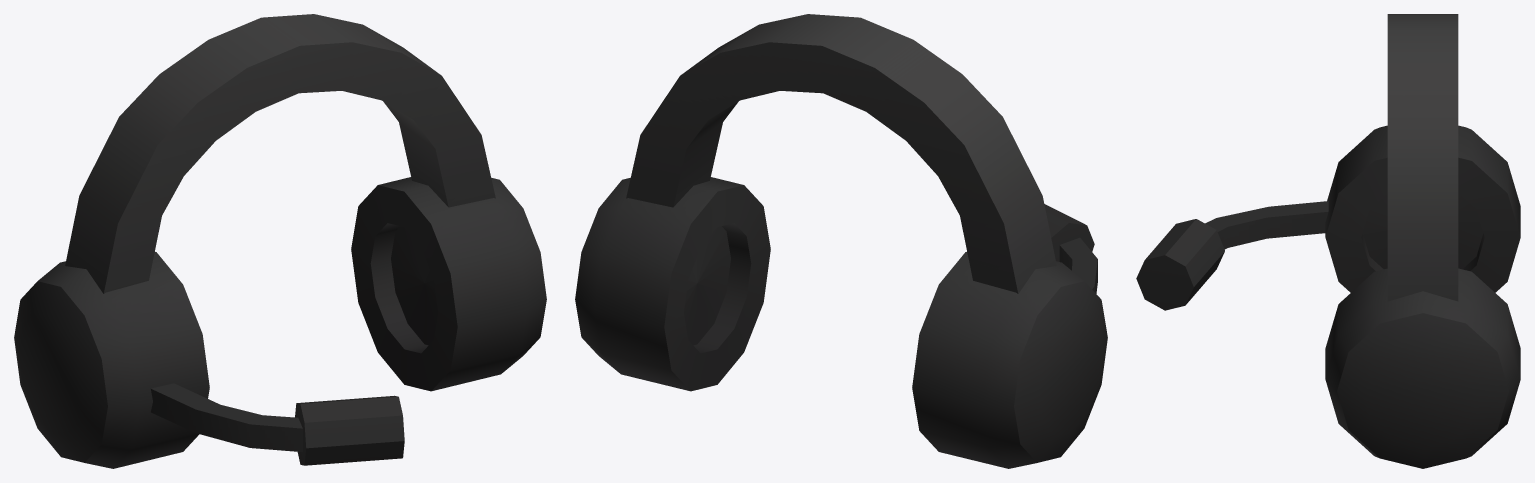
File: Head_Prop_Headphone_01.fbx
The picture shows the model from 3 angles, left to right: view 1: azimuth 30°, elevation 25°; view 2: azimuth 150°, elevation 25°; view 3: azimuth 270°, elevation 25°; orthographic projection. The views are drawn at different scales.
Parts seen in each view (by area): view 1: Head_Prop_Headphone_01; view 2: Head_Prop_Headphone_01; view 3: Head_Prop_Headphone_01.
Part boxes in pixels (box(x1,y1,x2,y2)): Head_Prop_Headphone_01: box(14, 14, 546, 468); Head_Prop_Headphone_01: box(575, 14, 1107, 468); Head_Prop_Headphone_01: box(1136, 14, 1520, 468).
Bounding box in the file's own units: 143 × 114 × 113.
